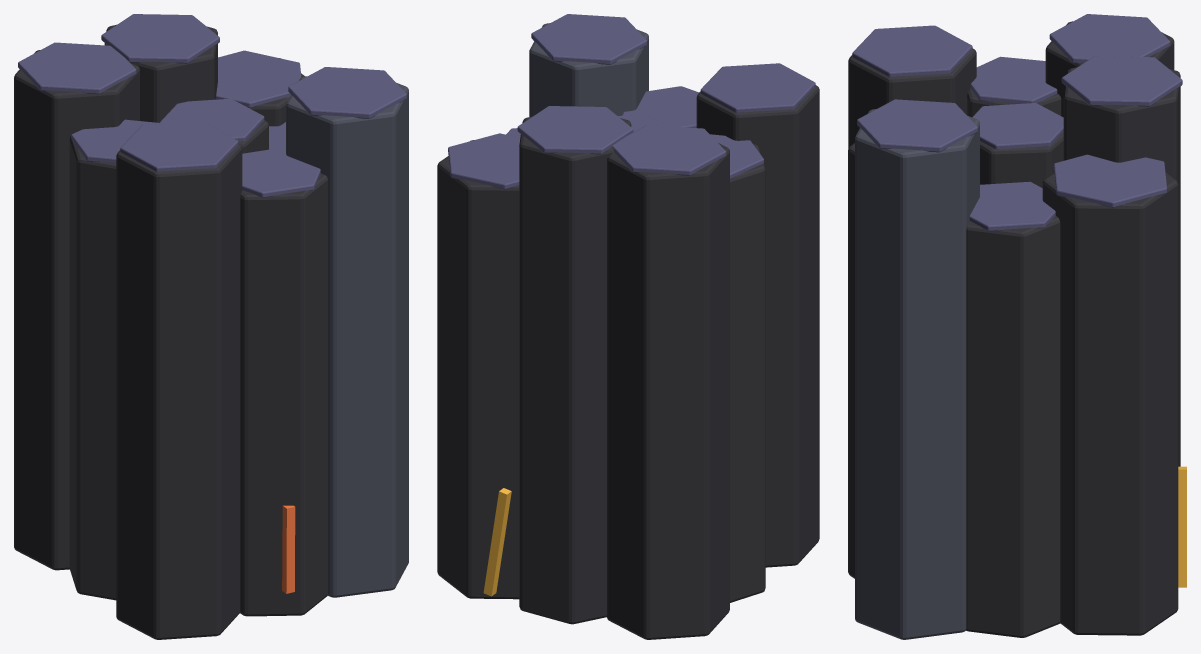
Rendered from basalt-wall.glb.
3 views of the same model, side by side, from view 1: azimuth 30°, elevation 25°; view 2: azimuth 150°, elevation 25°; view 3: azimuth 270°, elevation 25° (orthographic). The views are drawn at different scales.
Parts seen in each view (by area): view 1: basalt-wall, glow-basalt-wall; view 2: basalt-wall, glow-basalt-wall; view 3: basalt-wall, glow-basalt-wall.
Part boxes in pixels (x1,y1,x2,y2): basalt-wall: [14, 14, 408, 639]; glow-basalt-wall: [282, 505, 295, 593]; basalt-wall: [437, 14, 819, 639]; glow-basalt-wall: [483, 488, 511, 596]; basalt-wall: [848, 14, 1182, 639]; glow-basalt-wall: [1178, 466, 1186, 587].
Size of the model in its own units: 1.01 by 1.66 by 1.03.
1 material, 1 textured.
